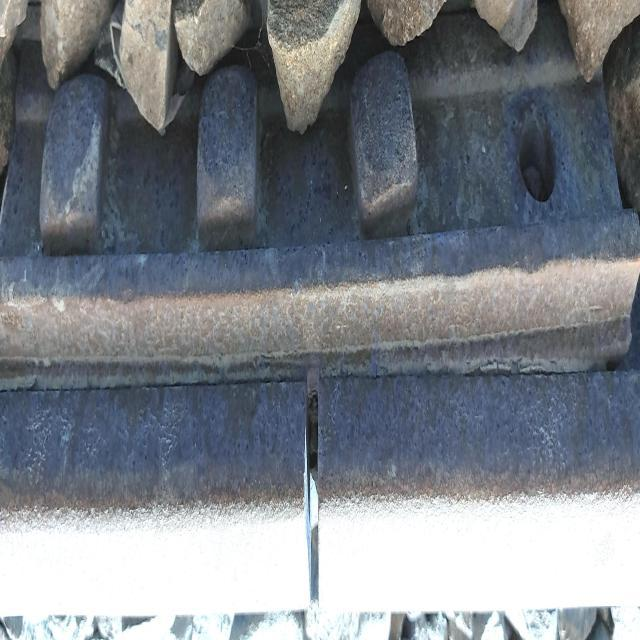Defective Joint: (0, 4, 635, 381)
